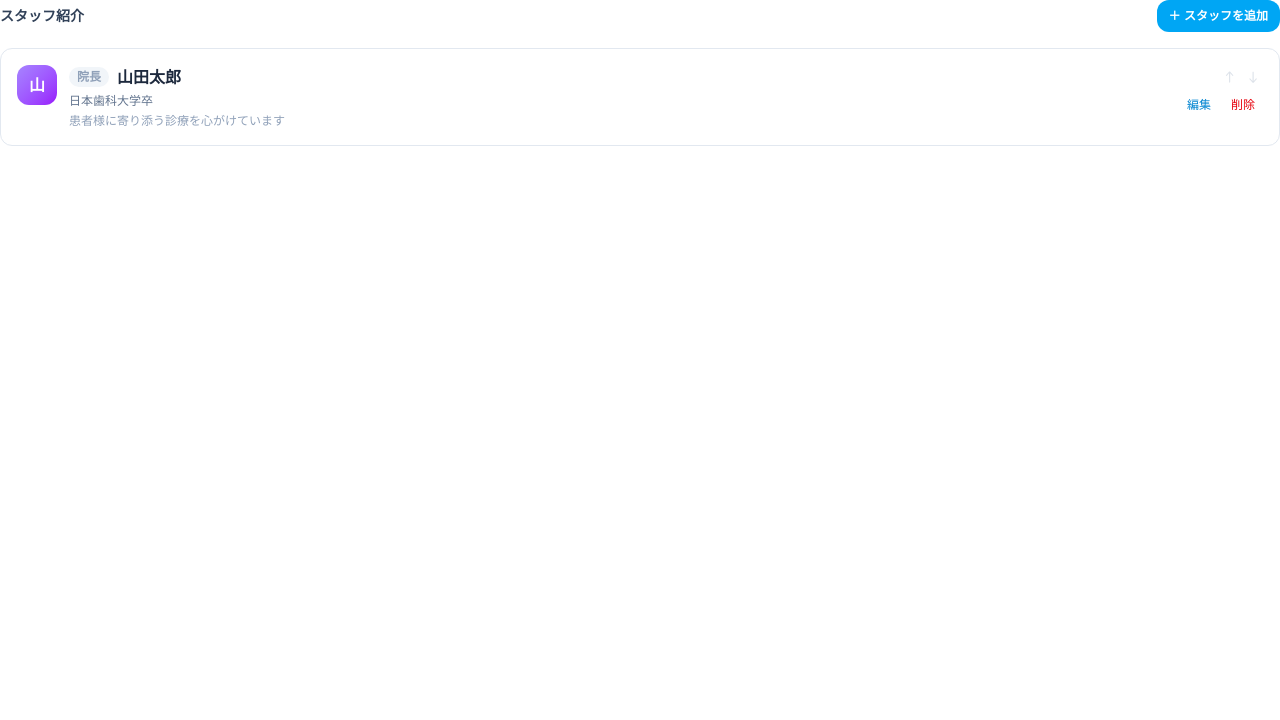
Test: ClinicStaffManager › 削除確認パネルで確定すると一覧から消える
Expected: the text "山田太郎" is shown, top-left (117, 65), bottom-right (181, 89)
Step 1. Click the button "削除" → (1243, 105), box top-left (1223, 93), bottom-right (1263, 117)
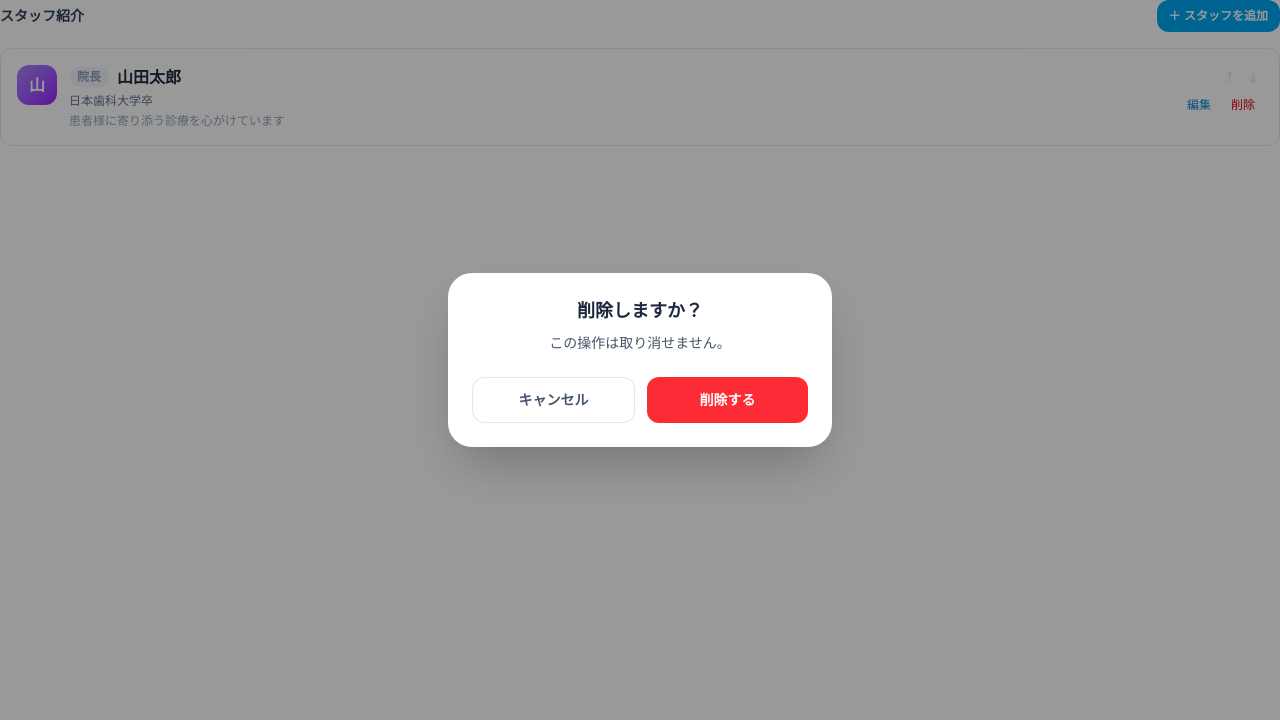
Step 2. Click the button "削除する" → (728, 400), box top-left (647, 377), bottom-right (808, 423)
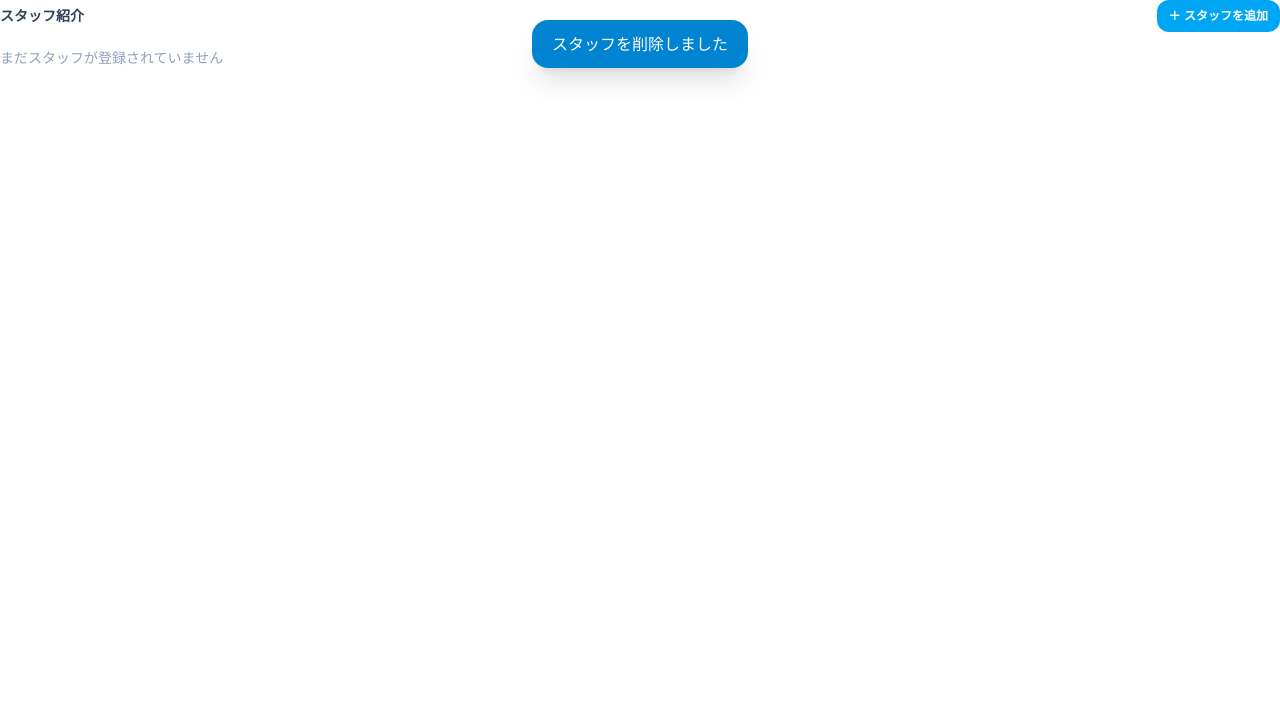
Expected: the text "スタッフを削除しました" is shown, top-left (532, 20), bottom-right (748, 68)
Expected: the text "山田太郎" is gone
